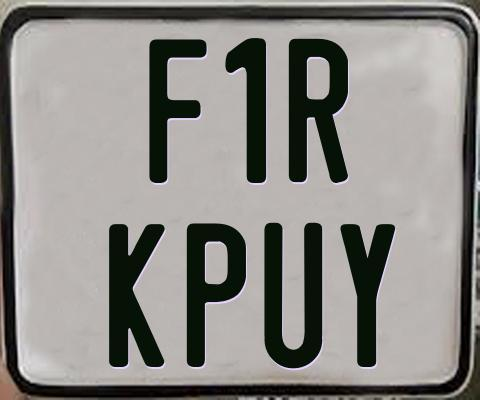1: (223, 38, 268, 184)
F: (148, 37, 208, 185)
K: (109, 222, 165, 370)
P: (186, 223, 251, 368)
R: (289, 38, 353, 185)
U: (261, 222, 322, 373)
Y: (339, 221, 395, 366)
